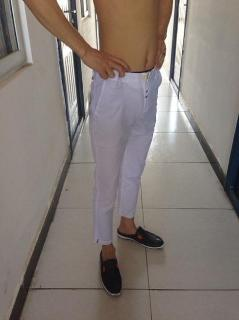trousers: (89, 66, 162, 245)
